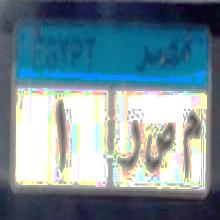1: (53, 96, 69, 172)
meem: (181, 105, 203, 181)
raa: (115, 113, 141, 175)
saad: (145, 114, 174, 179)
